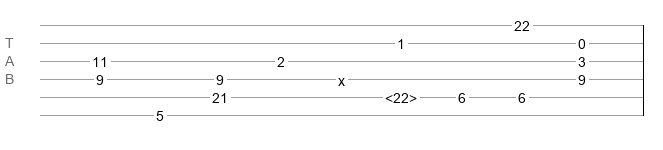0: (578, 36, 586, 46)
1: (397, 36, 405, 46)
11: (92, 54, 108, 64)
2: (277, 54, 285, 64)
21: (212, 90, 228, 100)
22: (514, 18, 530, 28)
3: (578, 54, 586, 64)
5: (156, 108, 164, 118)
6: (458, 90, 466, 100), (518, 90, 526, 100)
9: (96, 72, 104, 82), (216, 72, 224, 82), (578, 72, 586, 82)
harmonic: (385, 90, 417, 100)
x: (338, 73, 345, 81)
